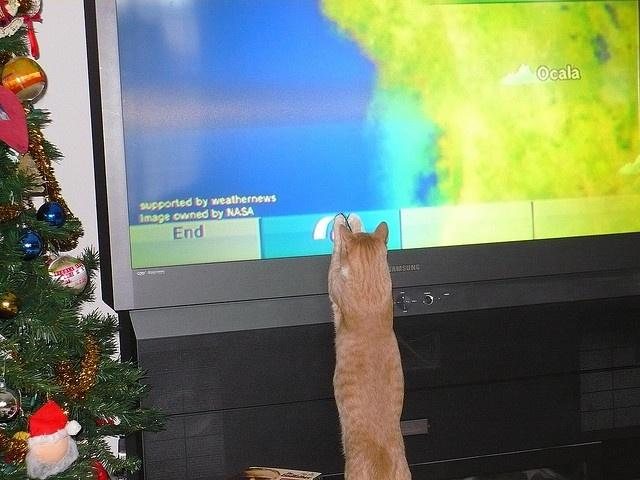AIO PC-Monitor-TV: (92, 0, 639, 311)
